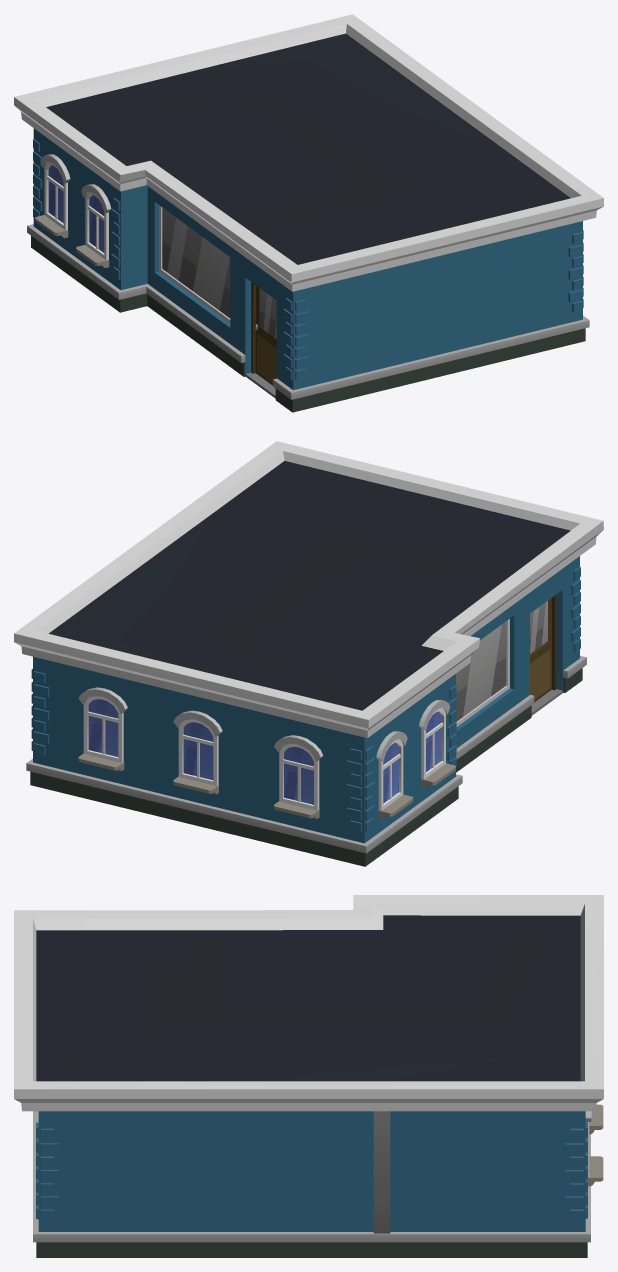
Rendered from Building_1_1_O.fbx.
The picture shows the model from 3 angles, top to bottom: view 1: azimuth 30°, elevation 25°; view 2: azimuth 150°, elevation 25°; view 3: azimuth 270°, elevation 25°; orthographic projection. The views are drawn at different scales.
Visible parts, largest first — view 1: Building_1_1_O; view 2: Building_1_1_O; view 3: Building_1_1_O.
Boxes of the visible parts, x1,y1,x2,y2 form: Building_1_1_O: (14,14,603,412); Building_1_1_O: (14,441,603,866); Building_1_1_O: (14,895,603,1257).
Size of the model in its own units: 822 by 341 by 1051.
